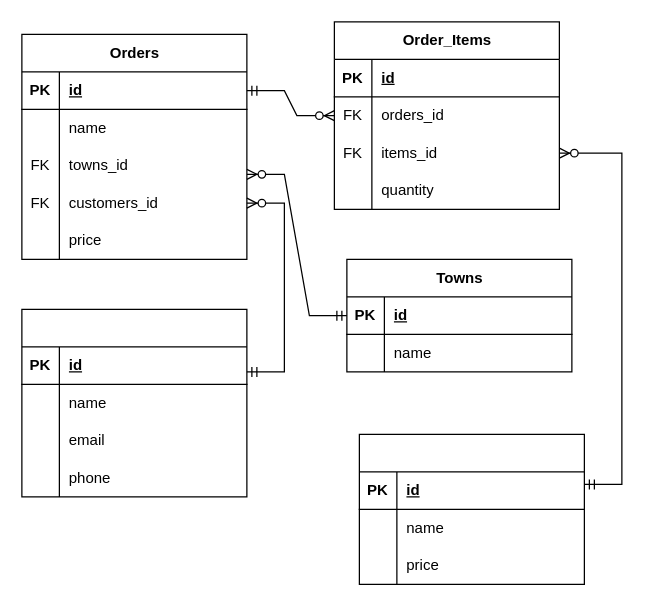
Image size: 655x606. Some labels were removed from this diagram. Here are the shapes that lost their labels. From the top down, the box of each, then its label:
(21, 308, 247, 497): Customers
(358, 433, 584, 584): Items
